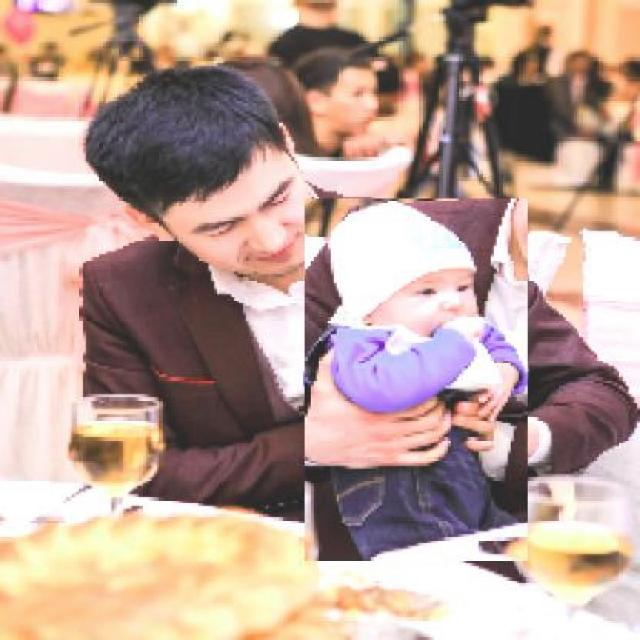child: (303, 198, 528, 562)
